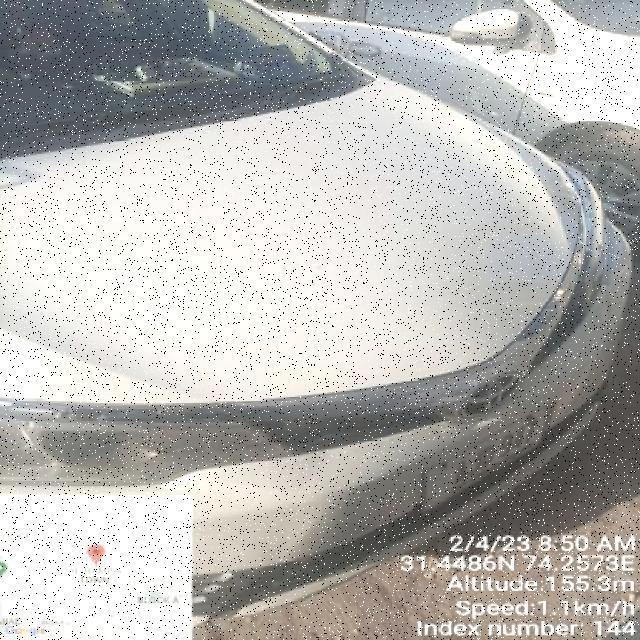LicensePlate: (421, 402, 555, 516)
